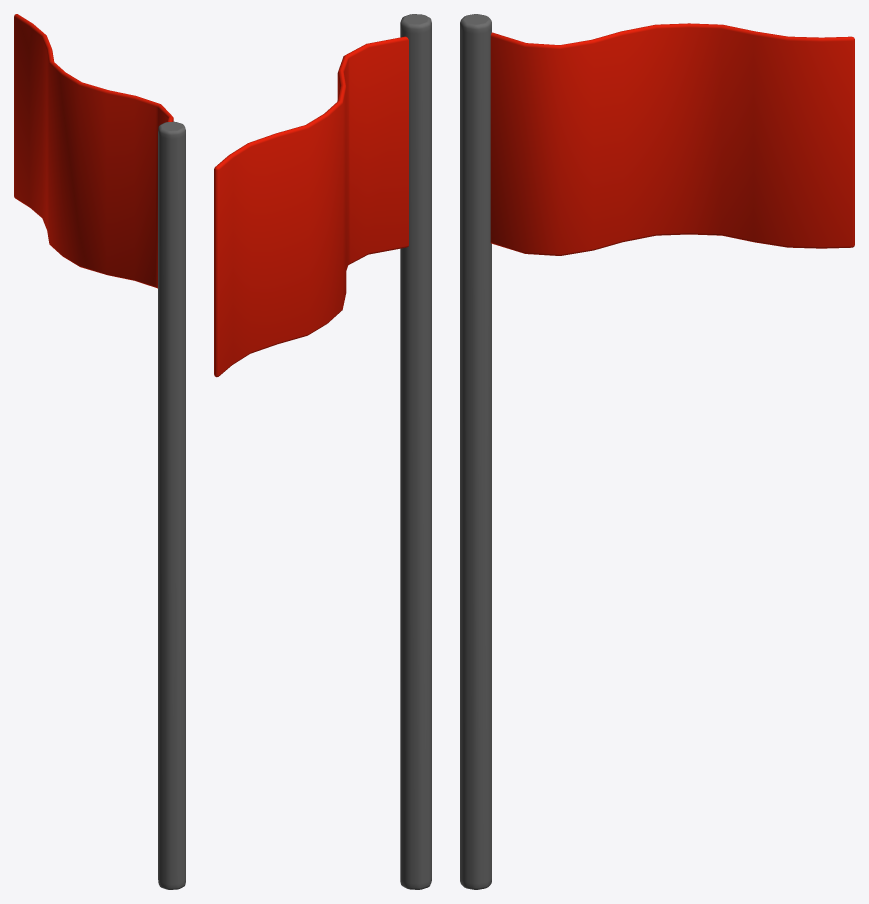
File: Flag.fbx
3 renders of one model, left to right at view 1: azimuth 30°, elevation 25°; view 2: azimuth 150°, elevation 25°; view 3: azimuth 270°, elevation 25°, orthographic. The views are drawn at different scales.
Parts seen in each view (by area): view 1: Plane, Cylinder; view 2: Plane, Cylinder; view 3: Plane, Cylinder.
Part boxes in pixels (bbox=[...]): Plane: bbox=[14, 14, 173, 288]; Cylinder: bbox=[158, 121, 185, 889]; Plane: bbox=[214, 36, 408, 377]; Cylinder: bbox=[400, 14, 431, 889]; Plane: bbox=[490, 23, 854, 255]; Cylinder: bbox=[460, 14, 491, 889].
Bounding box in the file's own units: 46.89 × 781 × 323.
